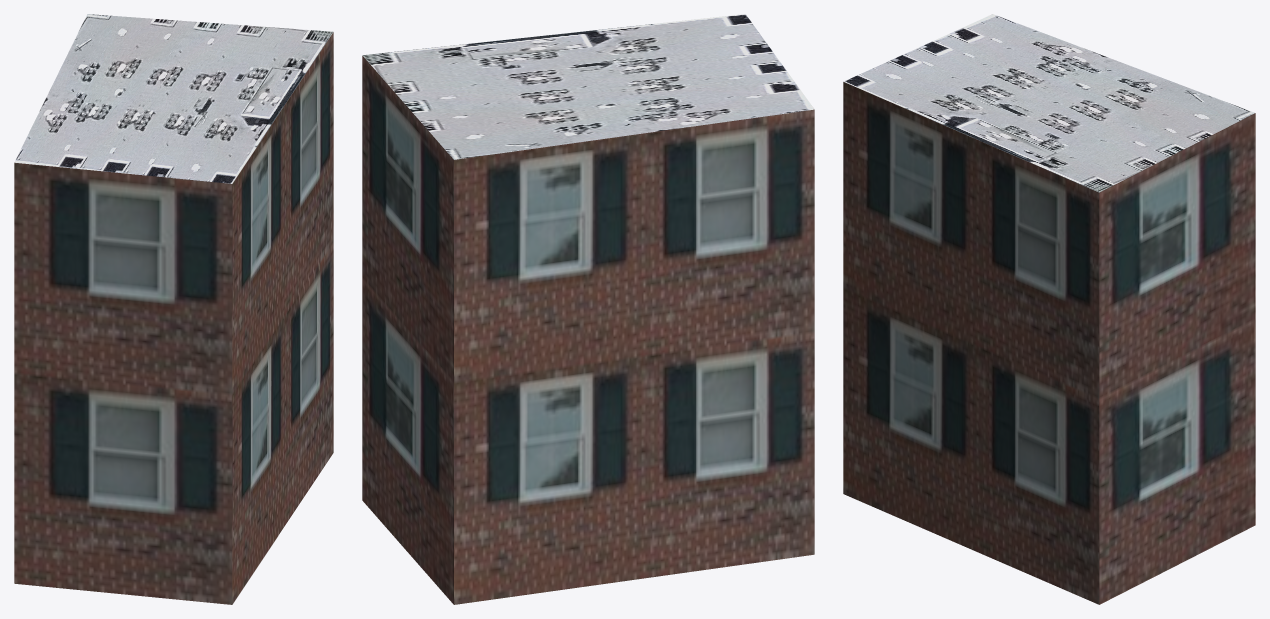
Rendered from ResTex__2809.fbx.
3 views of the same model, side by side, from view 1: azimuth 30°, elevation 25°; view 2: azimuth 150°, elevation 25°; view 3: azimuth 270°, elevation 25° (orthographic). The views are drawn at different scales.
Parts seen in each view (by area): view 1: CityEngineMaterial_14_m, CityEngineMaterial_m; view 2: CityEngineMaterial_14_m, CityEngineMaterial_m; view 3: CityEngineMaterial_14_m, CityEngineMaterial_m.
Part boxes in pixels (<box>): CityEngineMaterial_14_m: <box>14,32,333,604</box>; CityEngineMaterial_m: <box>14,14,333,183</box>; CityEngineMaterial_14_m: <box>362,56,814,604</box>; CityEngineMaterial_m: <box>362,14,814,159</box>; CityEngineMaterial_14_m: <box>843,82,1255,604</box>; CityEngineMaterial_m: <box>844,14,1254,192</box>.
Bounding box in the file's own units: 5.57 × 6 × 5.43.
2 materials, 2 textured.
